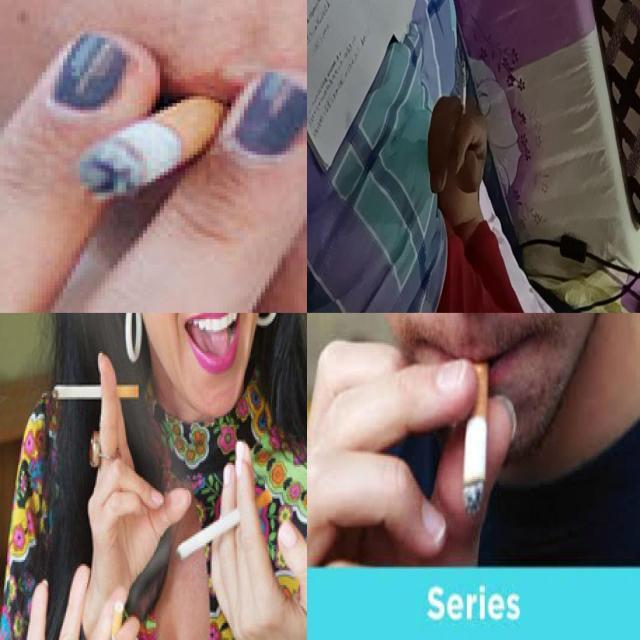smoking: (78, 94, 228, 198), (174, 488, 272, 556), (462, 362, 489, 516), (52, 380, 138, 400), (461, 61, 466, 126)
